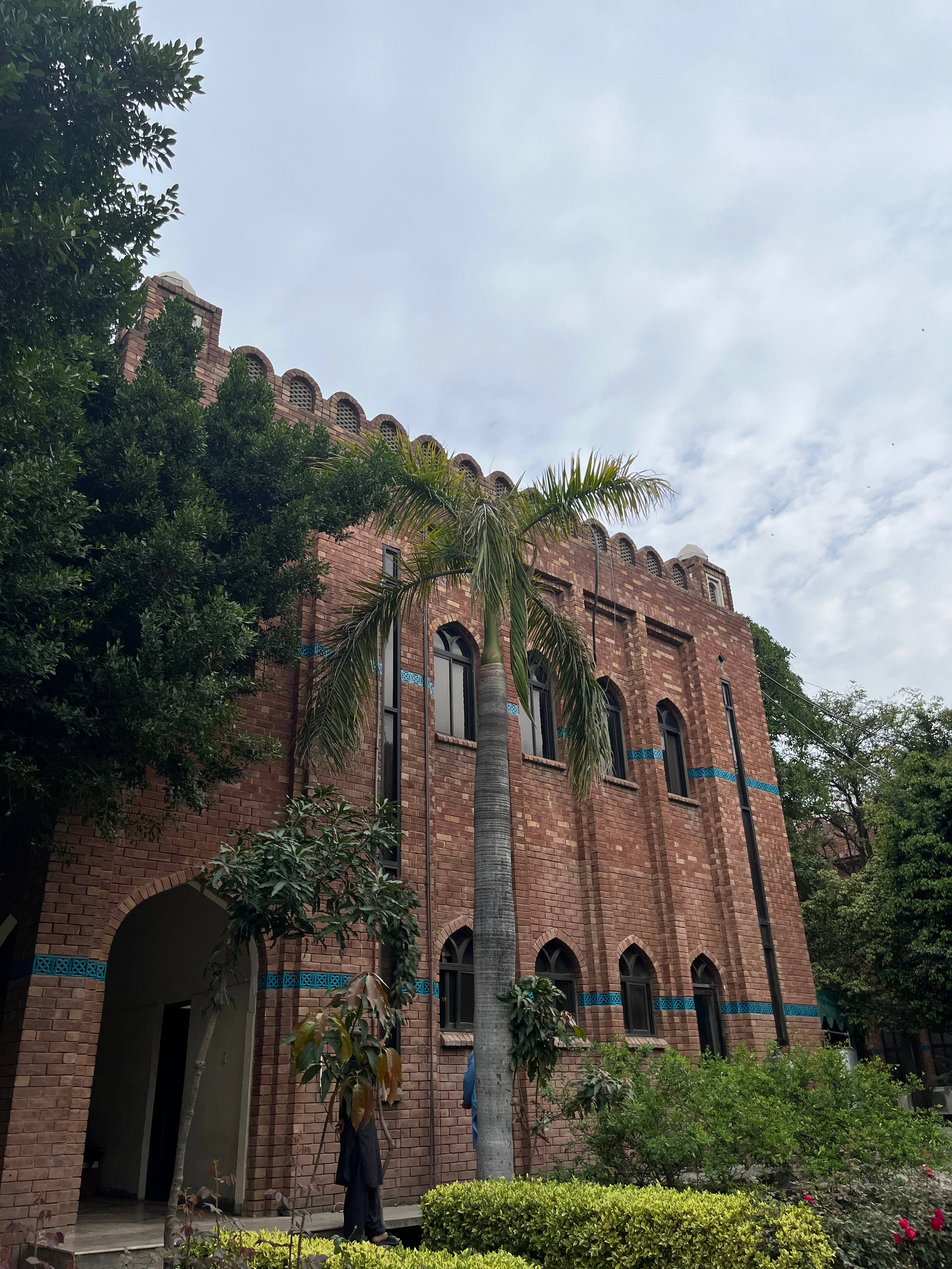Block B: (3, 261, 847, 1234)
